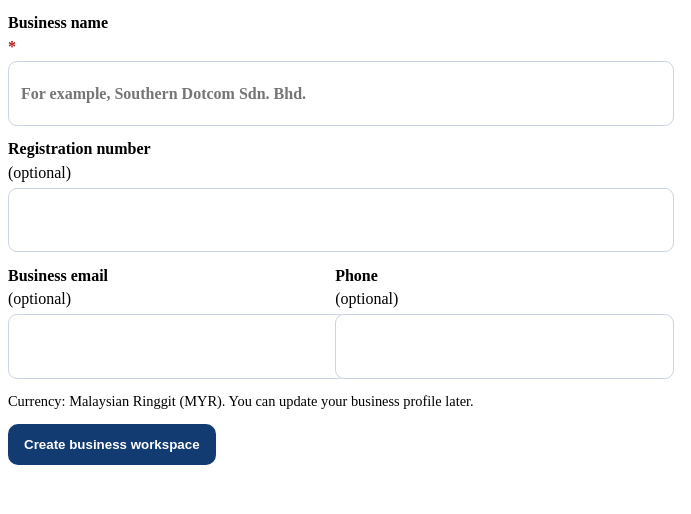
Test: business onboarding › shows a retryable error when the database rejects setup
Type "Southern Dotcom" into the field labelled "Business name *" at (341, 94), box [8,61,674,126]
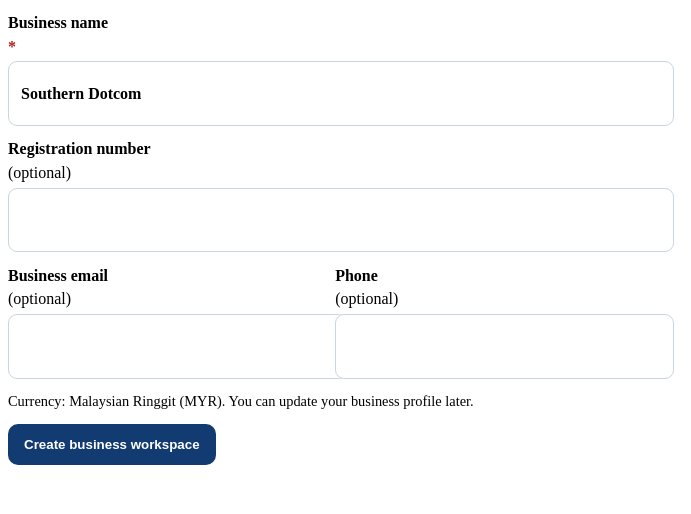
Click the button "Create business workspace" at (112, 445), box [8,424,216,465]
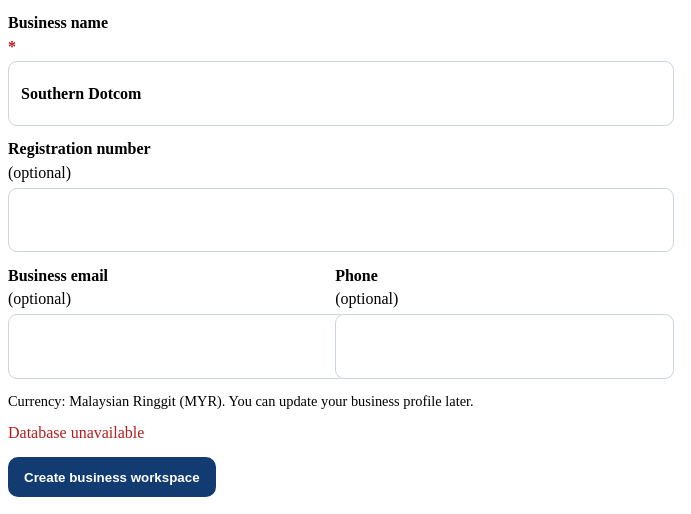
Expected: the message reads "Database unavailable", [8,424,144,442]
